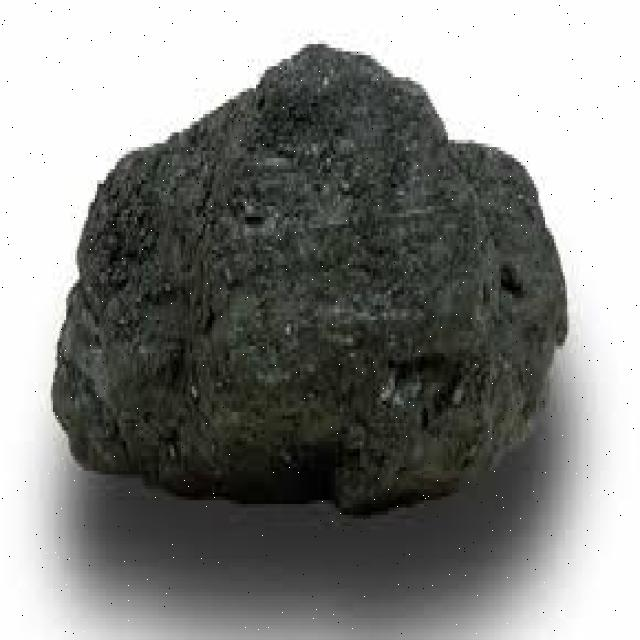Sedimentary: (51, 40, 576, 537)
